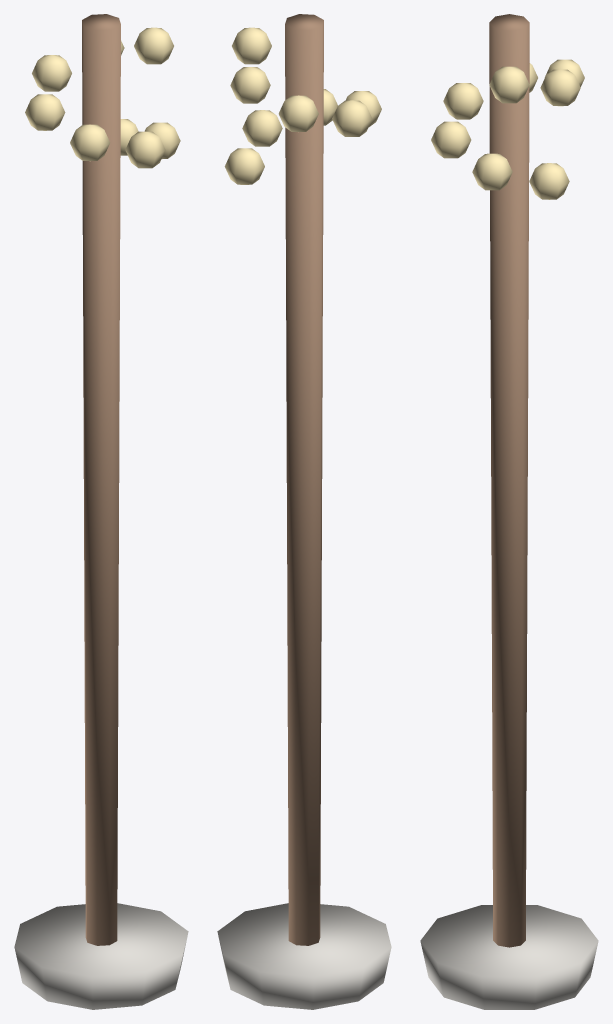
File: luzinhas.glb
3 renders of one model, left to right at view 1: azimuth 30°, elevation 25°; view 2: azimuth 150°, elevation 25°; view 3: azimuth 270°, elevation 25°, orthographic.
Visible parts, largest first — view 1: luzinhas; view 2: luzinhas; view 3: luzinhas.
Part boxes in pixels (box(x1,y1,x2,y2)): luzinhas: box(14, 14, 188, 1009); luzinhas: box(217, 14, 391, 1009); luzinhas: box(420, 14, 598, 1009).
Bounding box in the file's own units: 0.4185 × 2.6 × 0.44.
